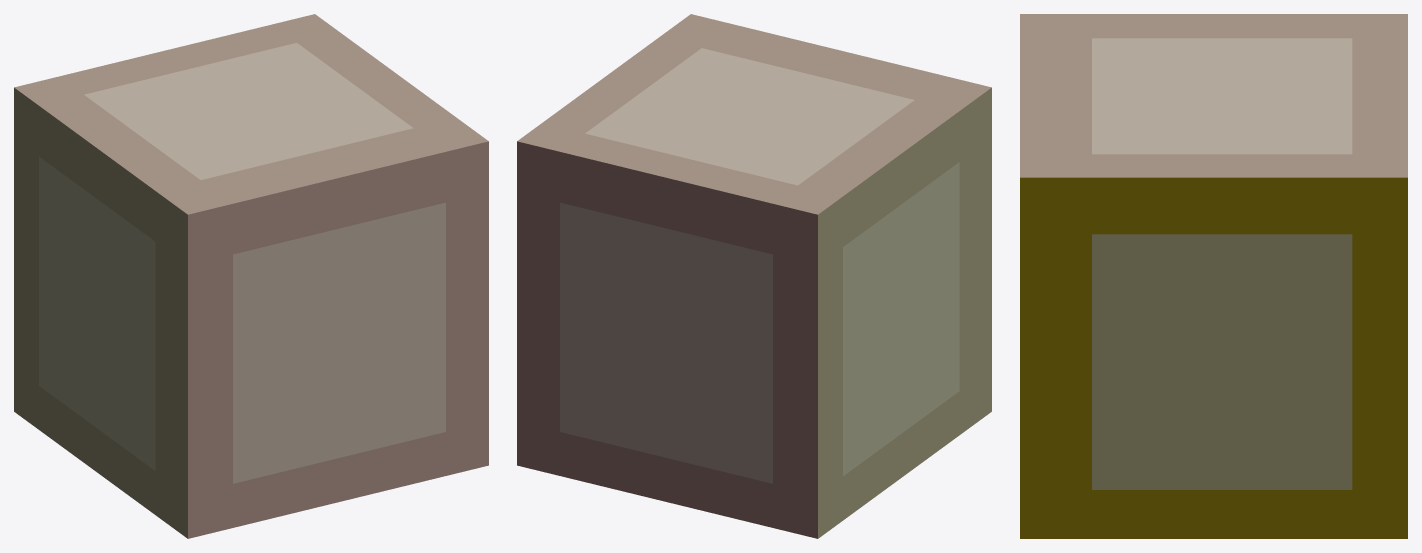
The model's file is Prop_woodbox.glb.
3 views of the same model, side by side, from view 1: azimuth 30°, elevation 25°; view 2: azimuth 150°, elevation 25°; view 3: azimuth 270°, elevation 25° (orthographic). The views are drawn at different scales.
Parts seen in each view (by area): view 1: Prop_woodbox; view 2: Prop_woodbox; view 3: Prop_woodbox.
Part boxes in pixels (box(x1,y1,x2,y2)): Prop_woodbox: box(14, 14, 488, 538); Prop_woodbox: box(517, 14, 991, 538); Prop_woodbox: box(1020, 14, 1407, 538).
Bounding box in the file's own units: 0.1554 × 0.1599 × 0.1555.
